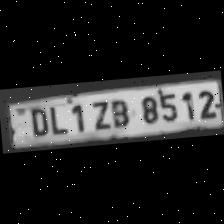1: (64, 100, 88, 134), (176, 88, 196, 121)
2: (192, 86, 218, 122)
5: (154, 89, 180, 123)
8: (134, 92, 160, 126)
B: (107, 96, 133, 130)
D: (24, 104, 50, 138)
L: (45, 102, 68, 136)
Z: (85, 97, 111, 132)
